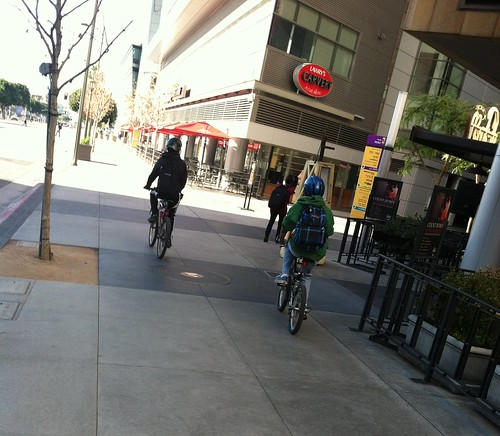Bicycle: (271, 233, 319, 333), (143, 186, 179, 265)
Person: (293, 171, 336, 266), (154, 133, 191, 212), (271, 181, 287, 247)
Tree: (29, 3, 72, 270)
